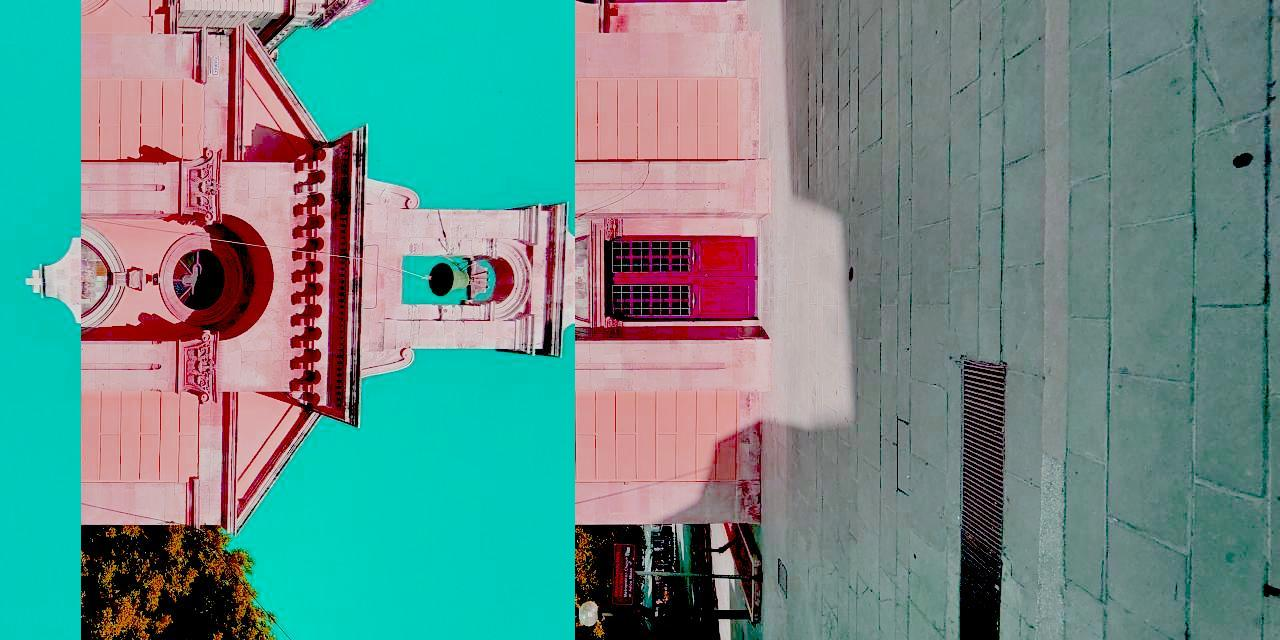Agios Minas: (82, 1, 576, 640)
